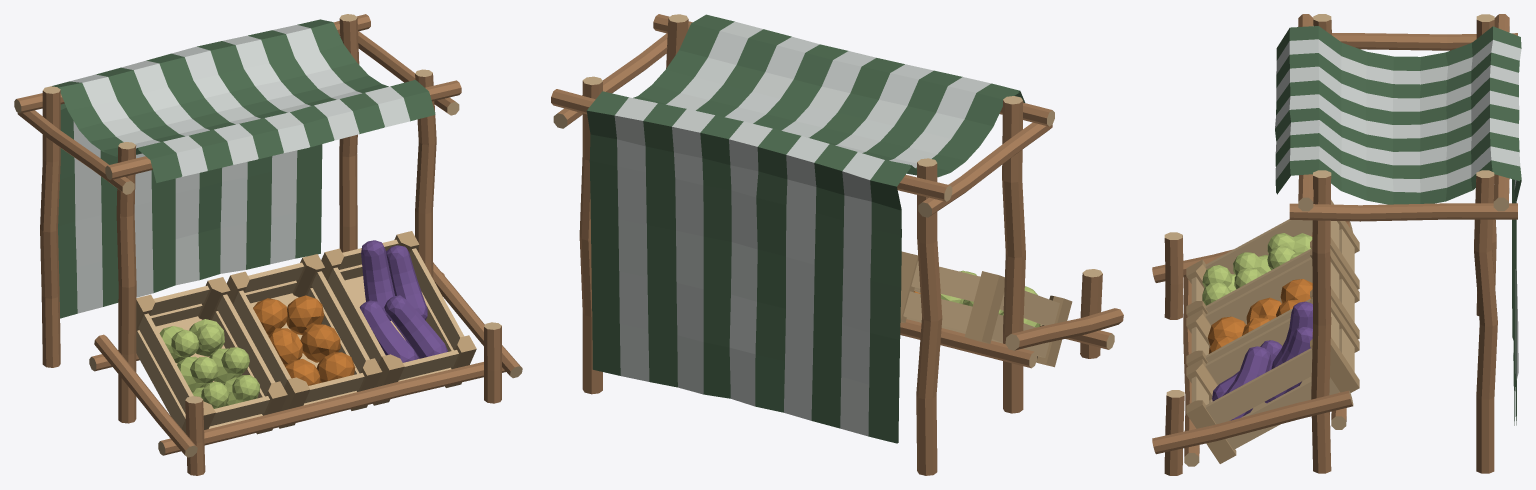
The model's file is Stall04.fbx.
3 renders of one model, left to right at view 1: azimuth 30°, elevation 25°; view 2: azimuth 150°, elevation 25°; view 3: azimuth 270°, elevation 25°, orthographic. The views are drawn at different scales.
Visible parts, largest first — view 1: Stall04; view 2: Stall04; view 3: Stall04.
Boxes of the visible parts, x1,y1,x2,y2 form: Stall04: (14, 14, 522, 475); Stall04: (551, 14, 1123, 475); Stall04: (1152, 14, 1521, 475).
Size of the model in its own units: 4 by 3.02 by 3.4.
